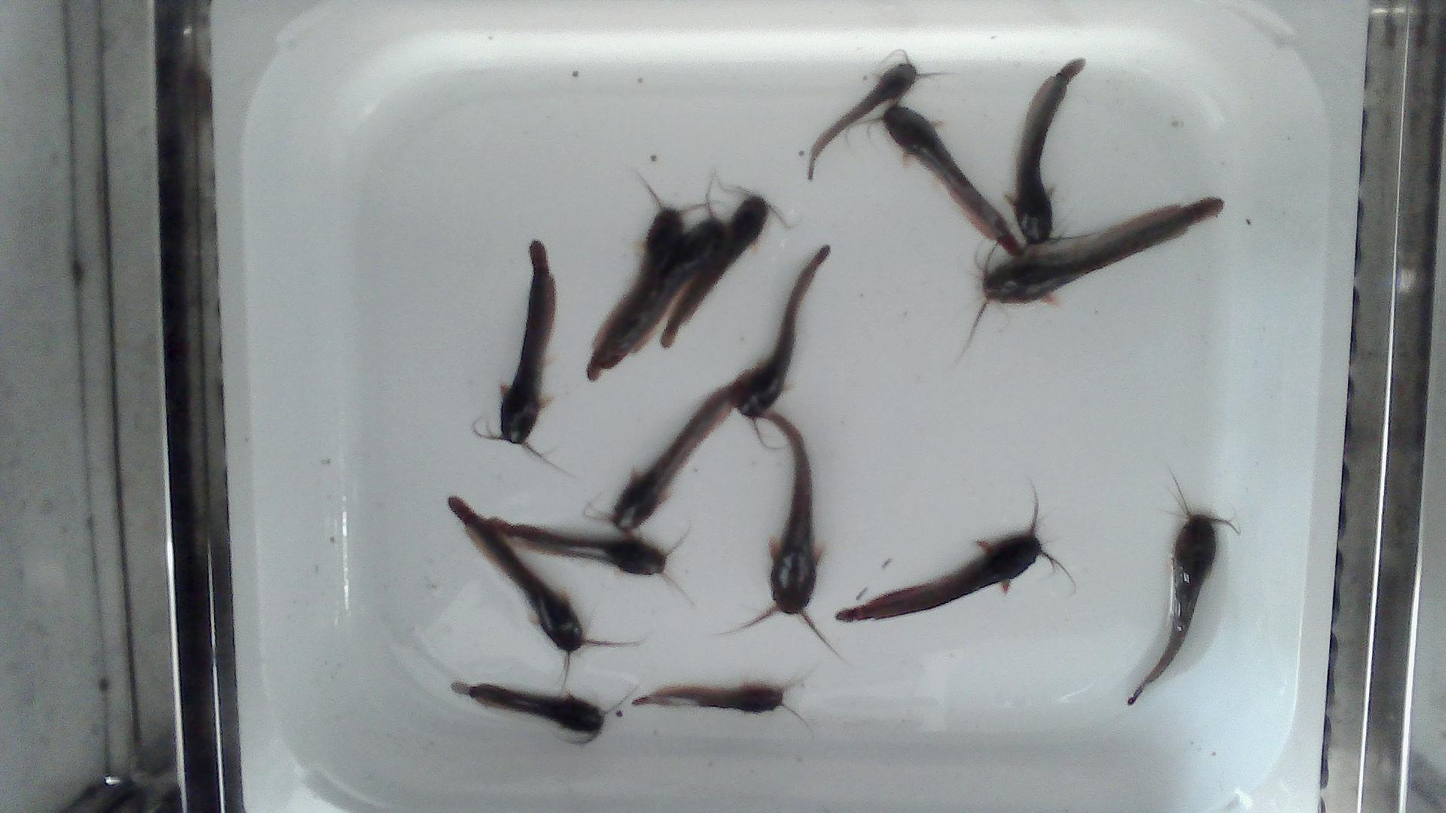lele: (581, 368, 750, 532), (983, 197, 1222, 303), (603, 175, 723, 374), (588, 187, 703, 379), (835, 521, 1048, 621), (881, 102, 1021, 253), (449, 498, 584, 653), (1128, 501, 1225, 704), (736, 245, 831, 449), (659, 187, 773, 349), (451, 499, 667, 575), (807, 56, 919, 178), (1011, 60, 1081, 242), (500, 240, 554, 443), (767, 410, 819, 614), (453, 684, 604, 741), (633, 682, 785, 713)
